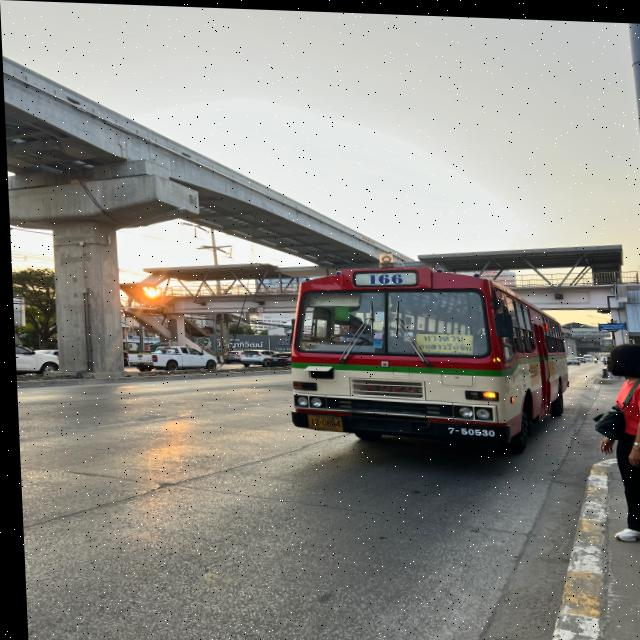BMTA-bus: (285, 259, 566, 452)
Bus Line Number: (356, 267, 409, 286)
Bus Side Number: (438, 422, 495, 434)
Destination Sign: (412, 330, 474, 353)
